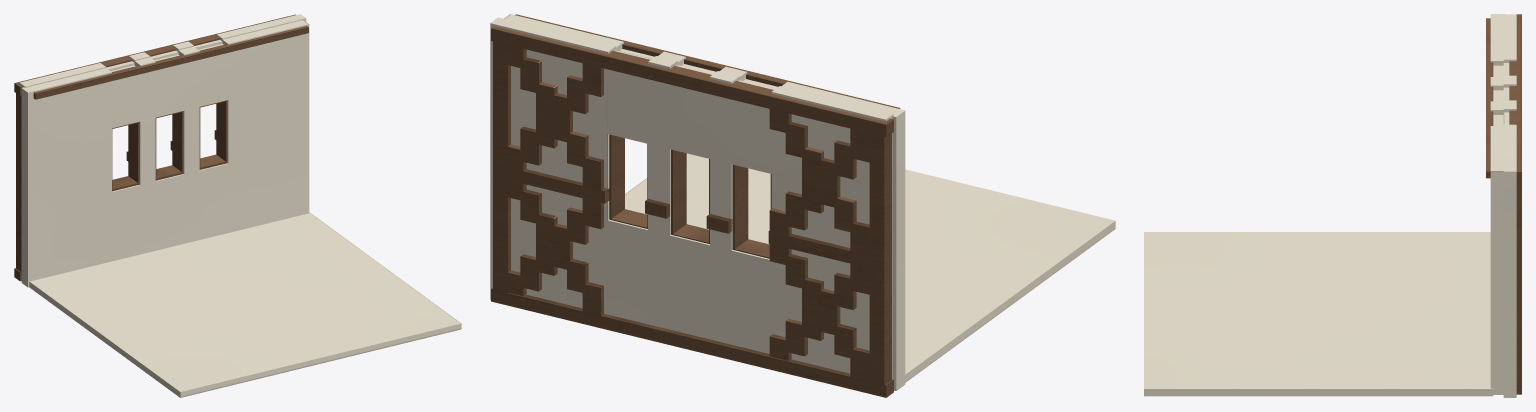
The model's file is med_window_c.glb.
3 renders of one model, left to right at view 1: azimuth 30°, elevation 25°; view 2: azimuth 150°, elevation 25°; view 3: azimuth 270°, elevation 25°, orthographic. The views are drawn at different scales.
Parts seen in each view (by area): view 1: med_window_c; view 2: med_window_c; view 3: med_window_c.
Boxes of the visible parts, x1,y1,x2,y2 form: med_window_c: [14, 14, 461, 397]; med_window_c: [490, 14, 1115, 397]; med_window_c: [1144, 14, 1521, 397].
Bounding box in the file's own units: 4.04 × 2.68 × 4.06.
1 material, 1 textured.
